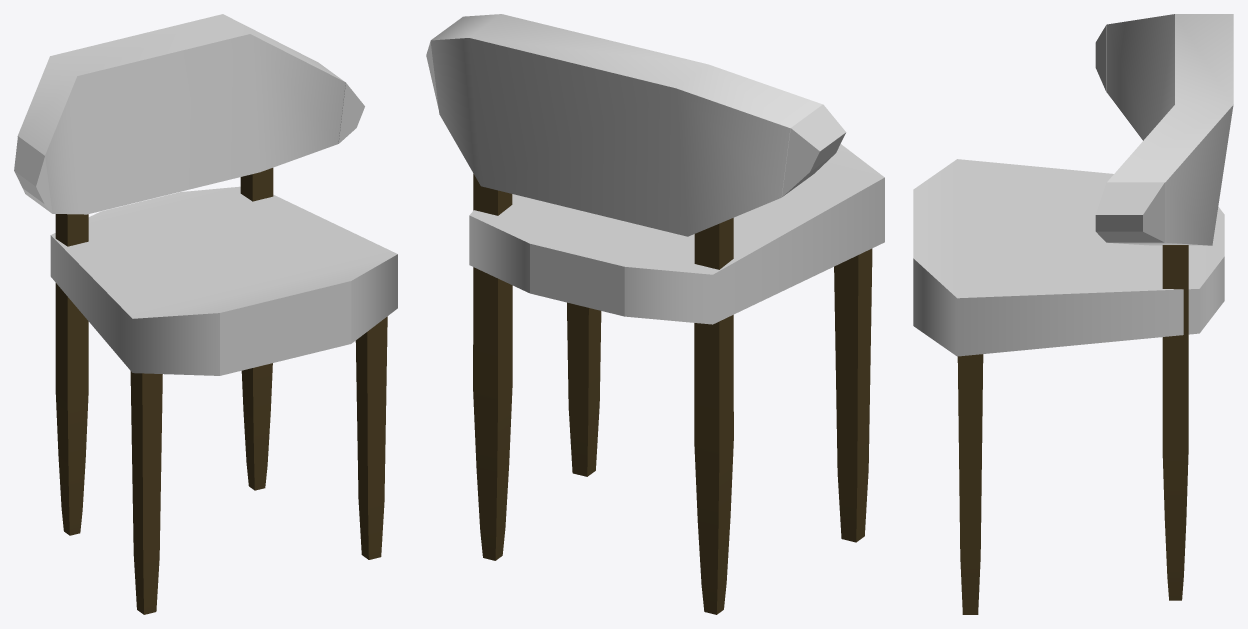
Rendered from ChairRemake1OBJ.obj.
3 renders of one model, left to right at view 1: azimuth 30°, elevation 25°; view 2: azimuth 150°, elevation 25°; view 3: azimuth 270°, elevation 25°, orthographic. The views are drawn at different scales.
Visible parts, largest first — view 1: pCube1, pCube6, ChairLegFront ChairLegFront1, ChairLegBack ChairLegBack1; view 2: pCube6, pCube1, ChairLegBack ChairLegBack1, ChairLegFront ChairLegFront1; view 3: pCube1, pCube6, ChairLegBack ChairLegBack1, ChairLegFront ChairLegFront1.
Boxes of the visible parts, left/top/right/bottom form: pCube1: left=50, top=186, right=397, bottom=375; pCube6: left=14, top=14, right=364, bottom=214; ChairLegFront ChairLegFront1: left=130, top=316, right=387, bottom=614; ChairLegBack ChairLegBack1: left=55, top=168, right=273, bottom=535; pCube6: left=426, top=14, right=846, bottom=236; pCube1: left=469, top=144, right=884, bottom=324; ChairLegBack ChairLegBack1: left=473, top=173, right=733, bottom=614; ChairLegFront ChairLegFront1: left=567, top=248, right=872, bottom=542; pCube1: left=913, top=159, right=1224, bottom=356; pCube6: left=1095, top=14, right=1233, bottom=245; ChairLegBack ChairLegBack1: left=1162, top=245, right=1188, bottom=600; ChairLegFront ChairLegFront1: left=957, top=354, right=983, bottom=614.
Size of the model in its own units: 58.93 by 78.49 by 46.15.
